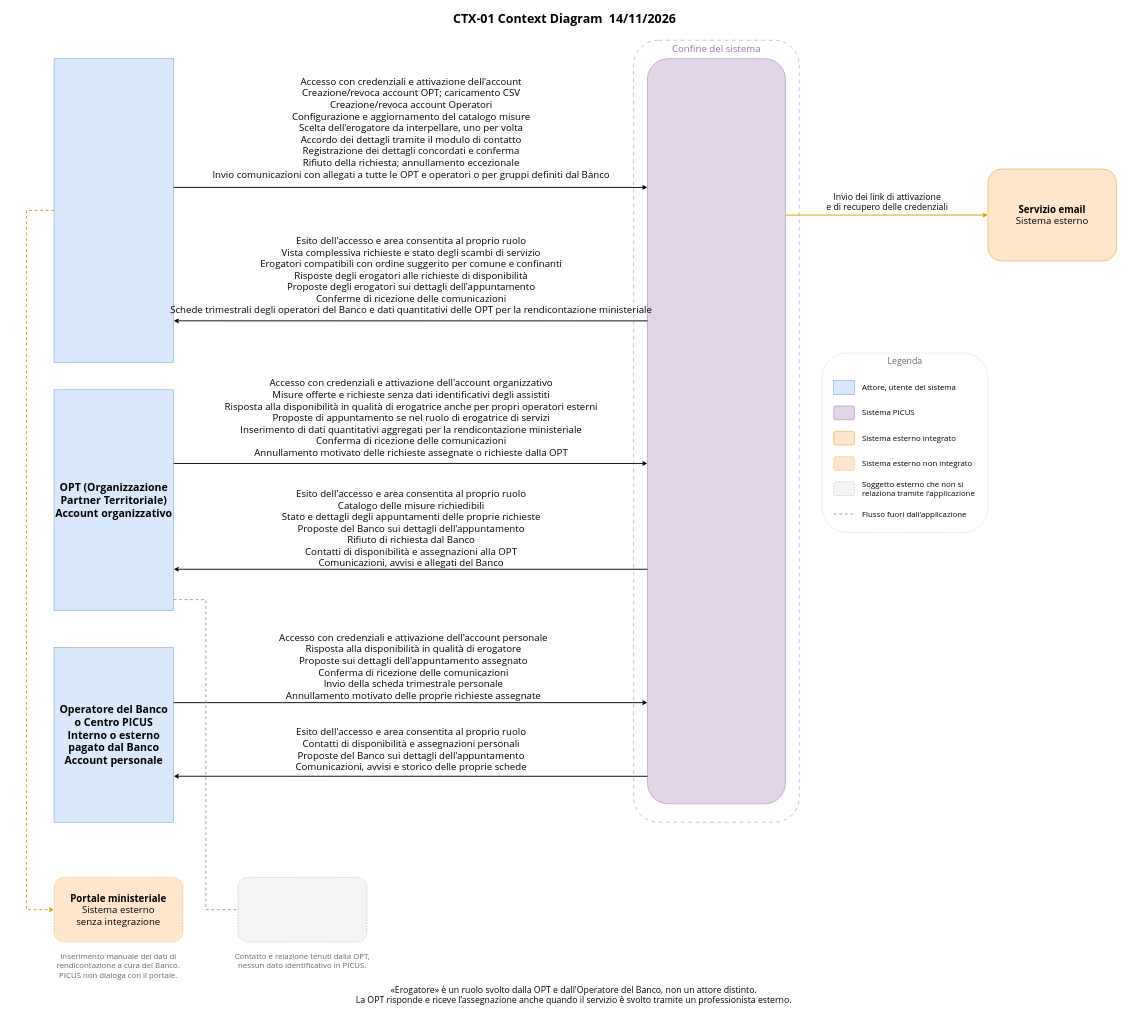
This 1138x1014 diagram has some shape labels left out. Here are the shapes that lost their labels. From the top down, the centre of each, then its label:
At [114,210]: "Banco di coordinamento".
At [716,431]: "Sistema PICUS Applicazione web accessibile da browser e da smartphone".
At [302,909]: "Persone assistite Soggetto esterno non utente del sistema".
